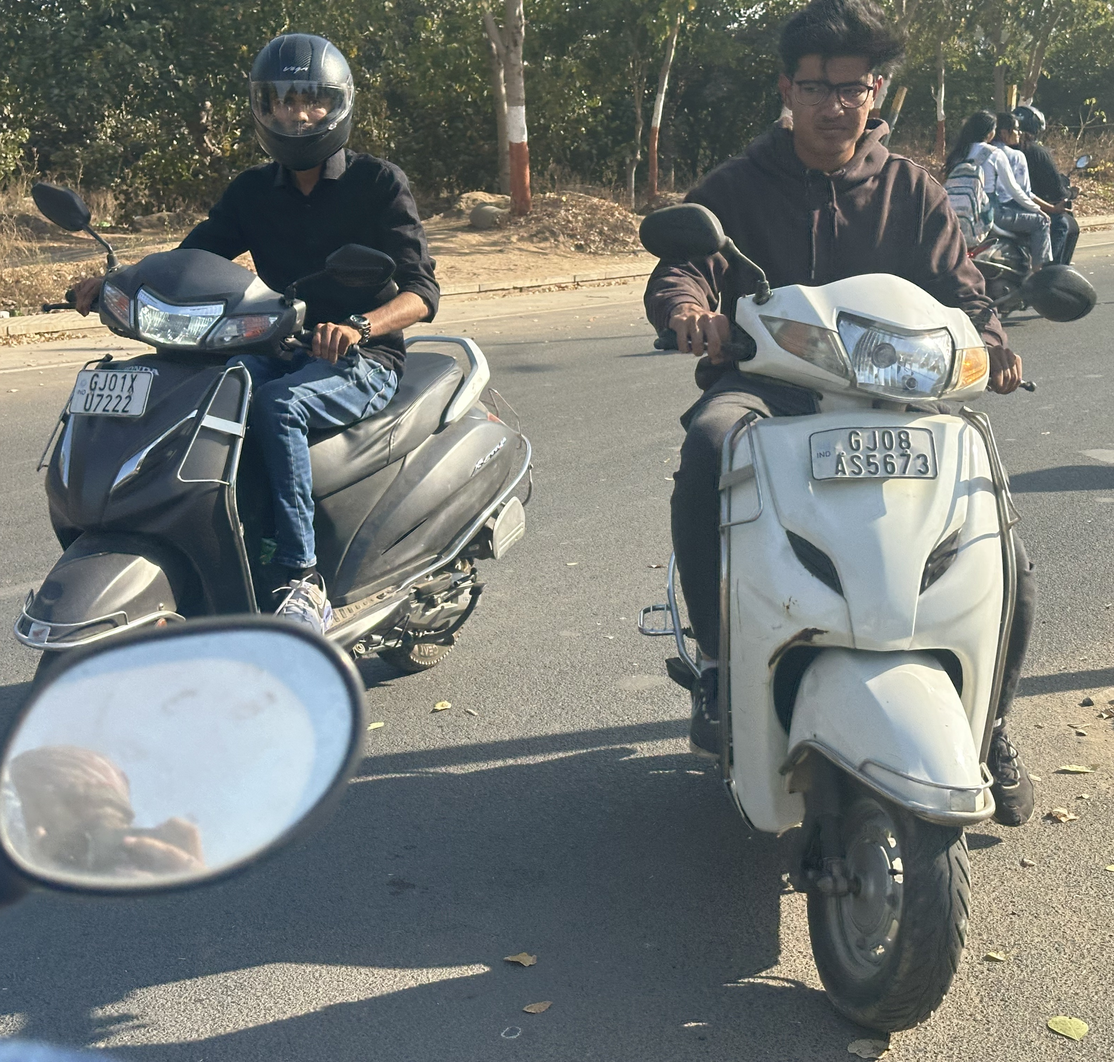BikeWithRider: (632, 2, 1096, 1034), (2, 27, 536, 707), (937, 97, 1083, 318)
Helmet: (239, 30, 366, 162), (1010, 100, 1051, 146)
NoHelmet: (770, 3, 907, 156), (963, 108, 1000, 145), (993, 113, 1023, 148)
